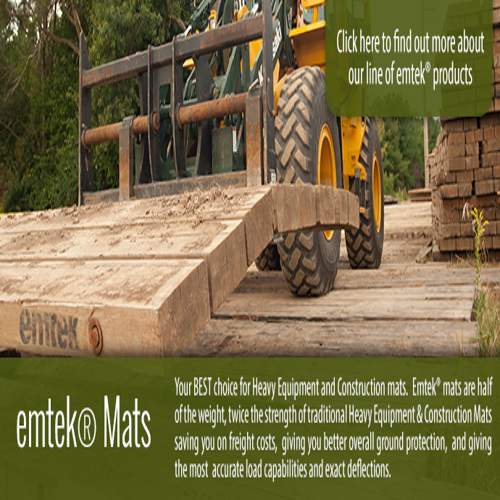con_eq: (1, 7, 381, 356)
